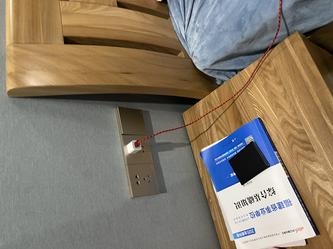switch: (120, 108, 147, 132)
